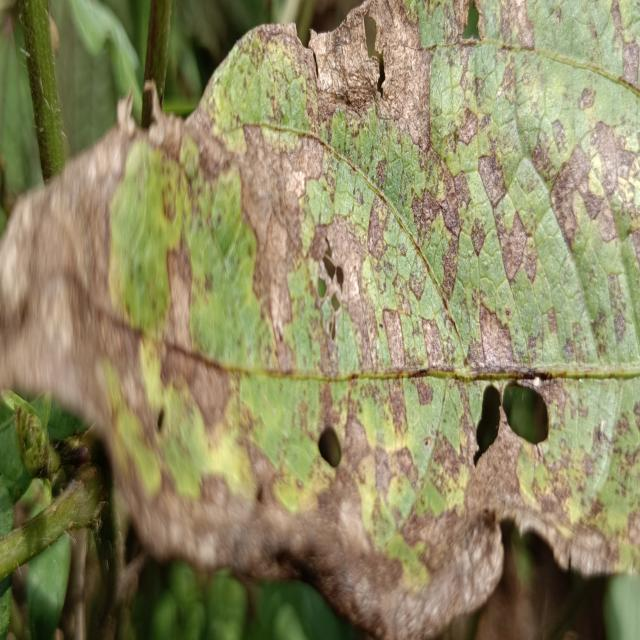Black gram_leaf spot: (0, 14, 640, 573)
